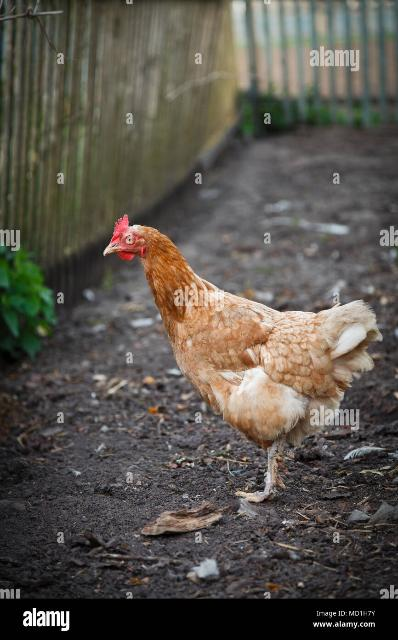Chicken: (103, 215, 384, 507)
